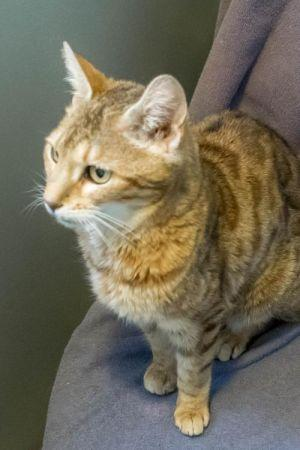bengal: (34, 34, 205, 240)
